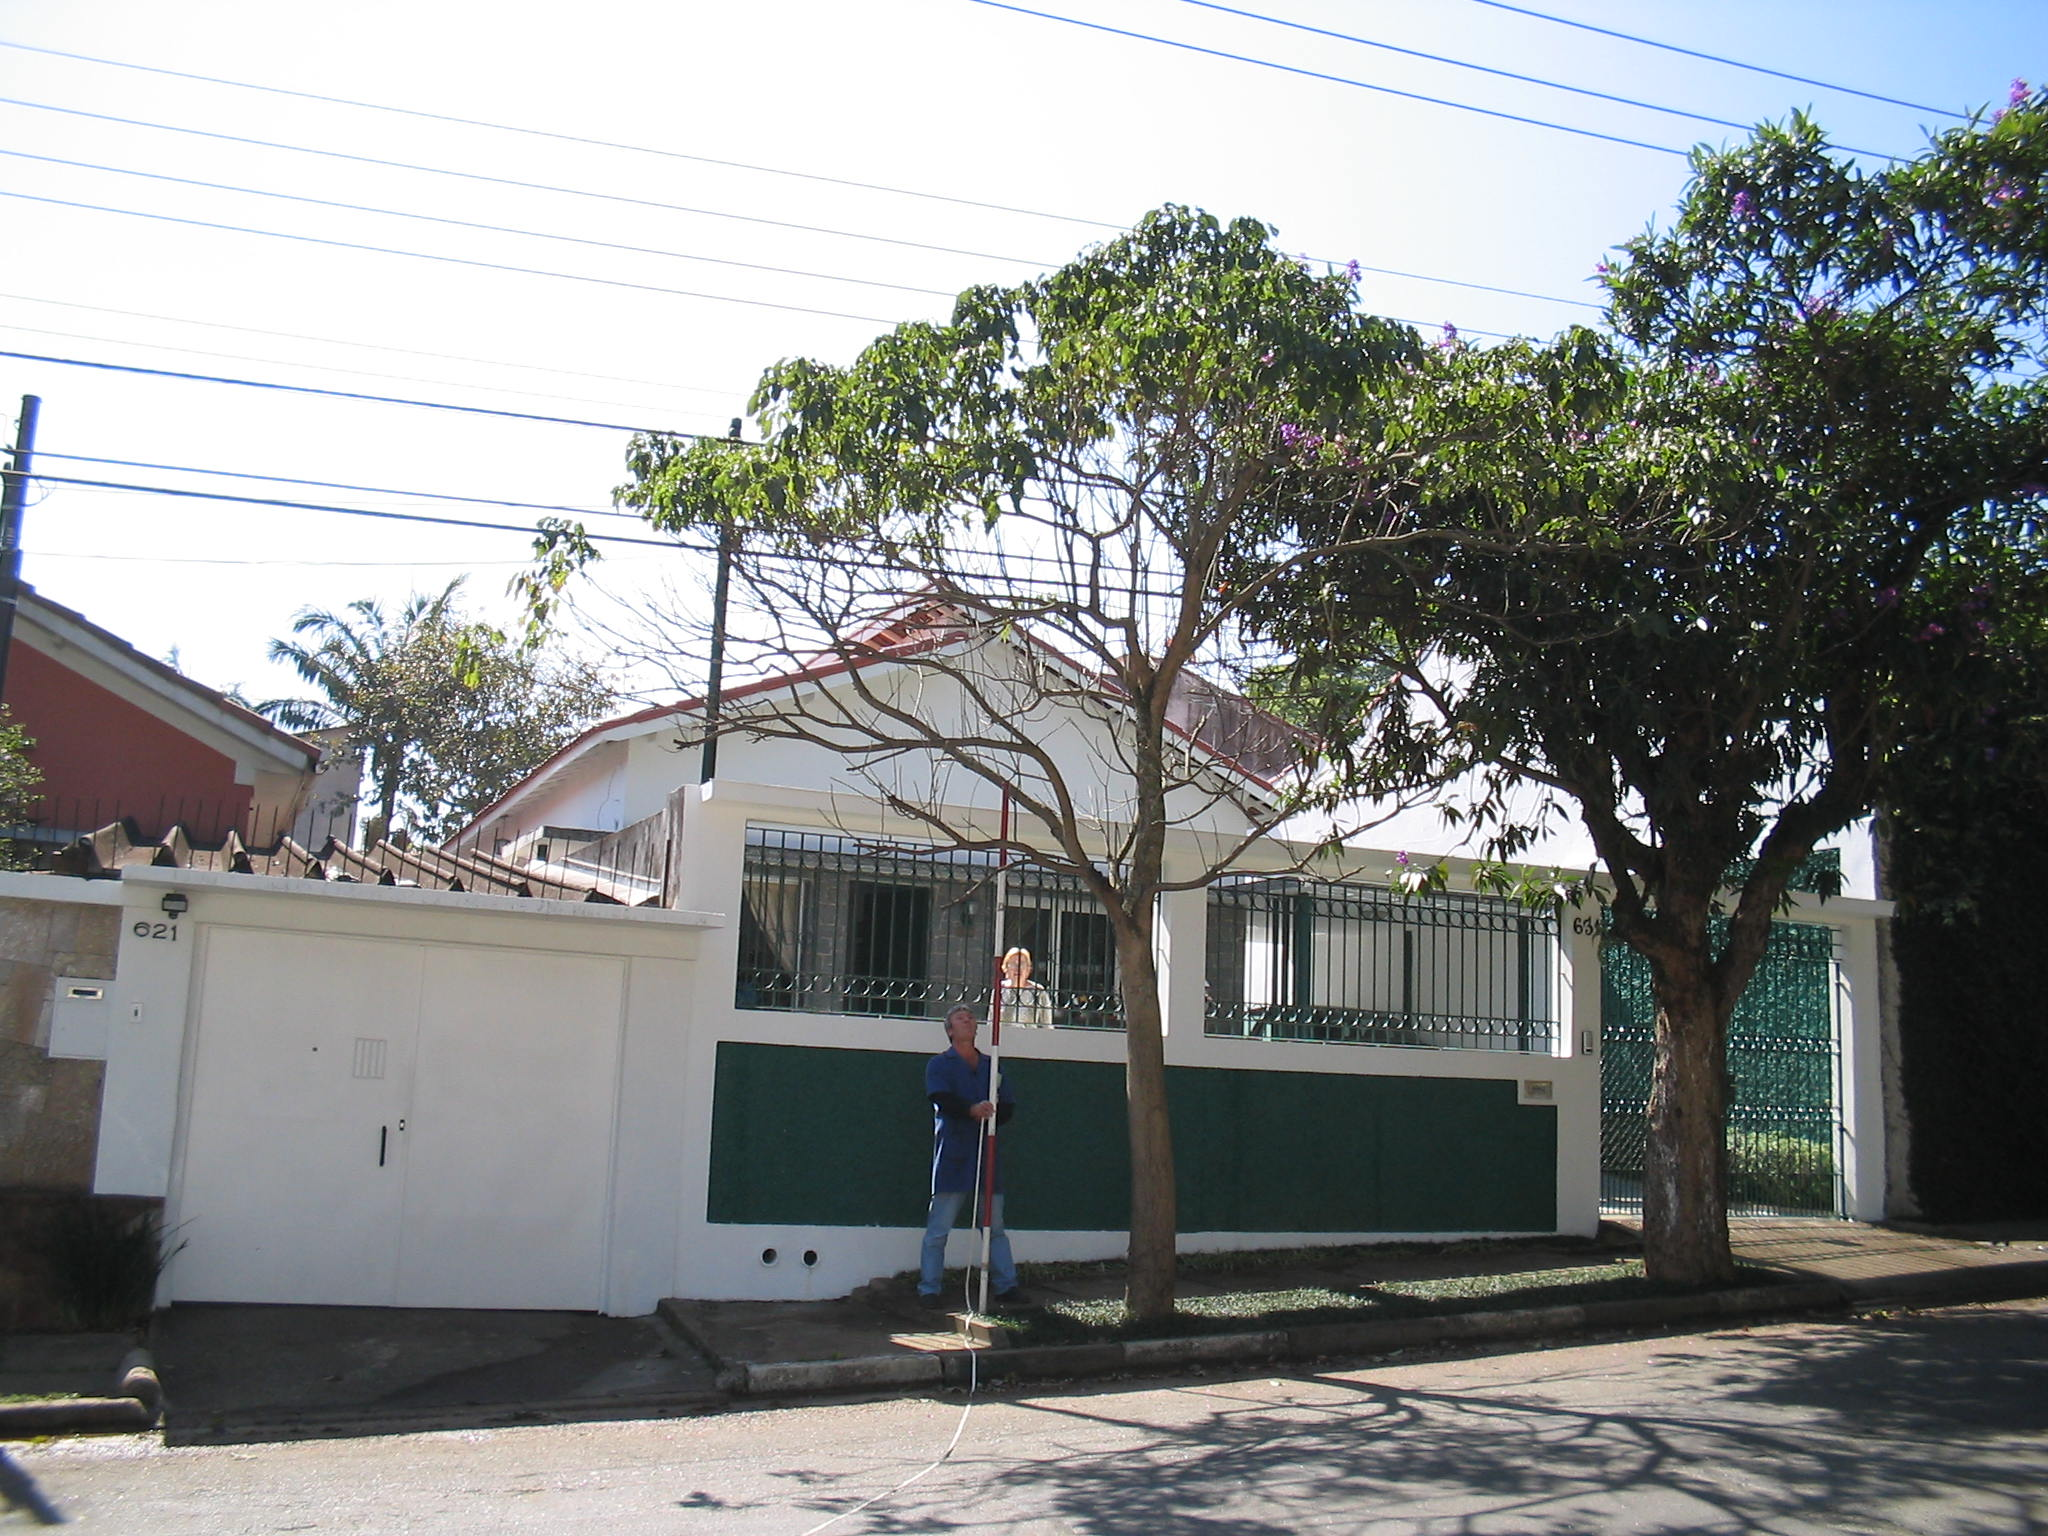crown: (529, 210, 1638, 849), (1211, 95, 2037, 929)
stem: (1071, 916, 1218, 1326), (1614, 1005, 1764, 1289)
stick: (961, 783, 1019, 1321)
tree: (522, 207, 1645, 1325), (1201, 90, 2043, 1291)
